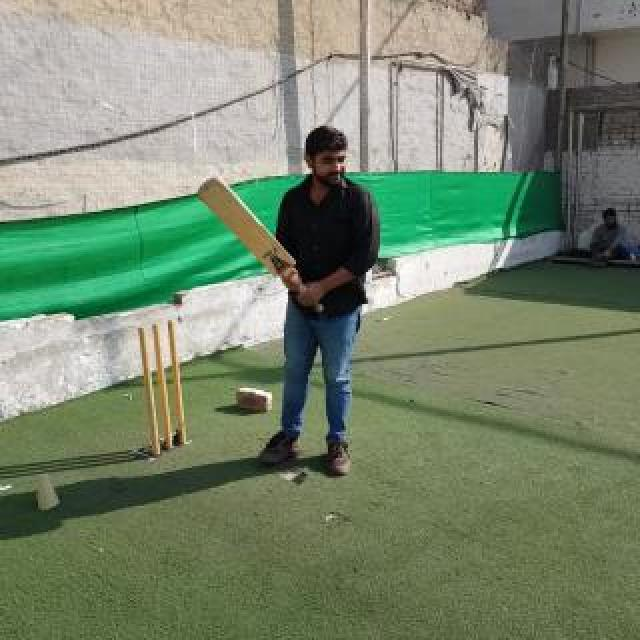bat: (198, 176, 324, 312)
